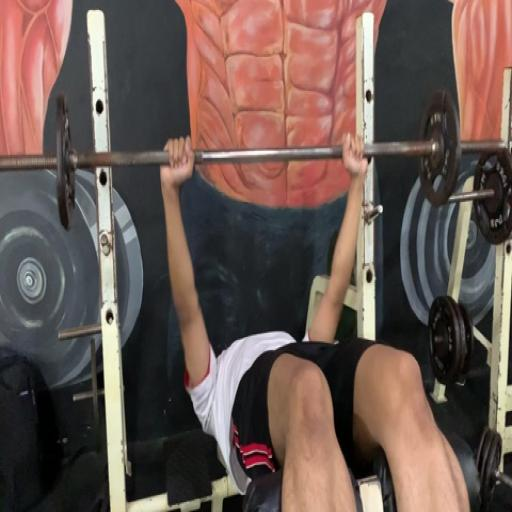exercise: (157, 131, 485, 510)
